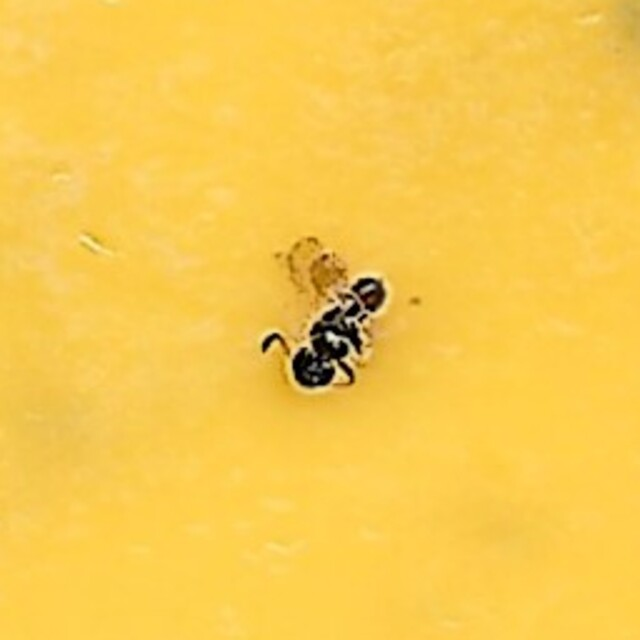Hymenoptera: (250, 238, 390, 402)
